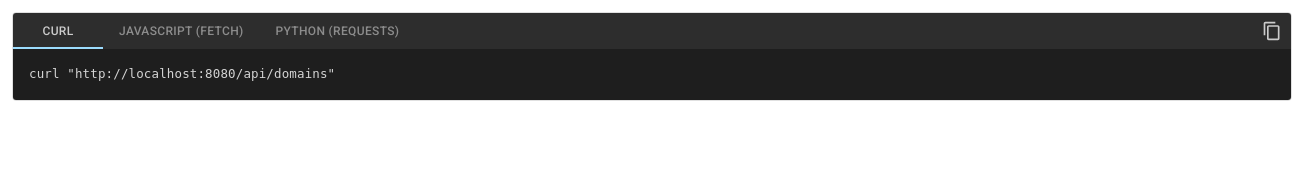
SnippetBlock › switches to JavaScript tab
The width and height of the screenshot is (1292, 172).
Click the tab "JavaScript (fetch)" at [181, 31], box [103,13,260,49]
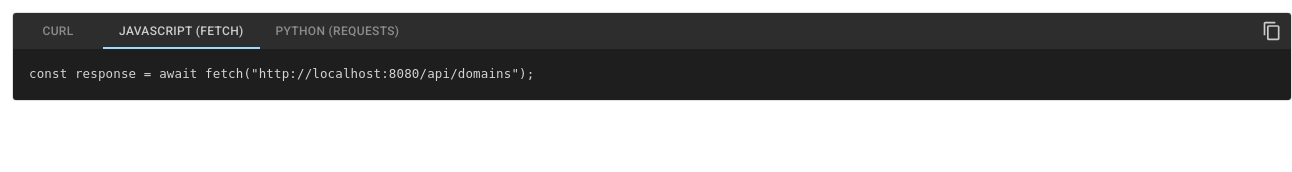
Now the text "await fetch" is shown, box [29,66,534,81]
